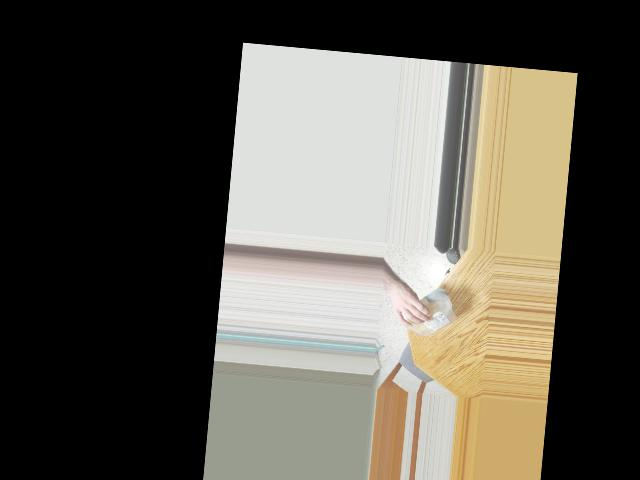cheese: (396, 291, 459, 342)
